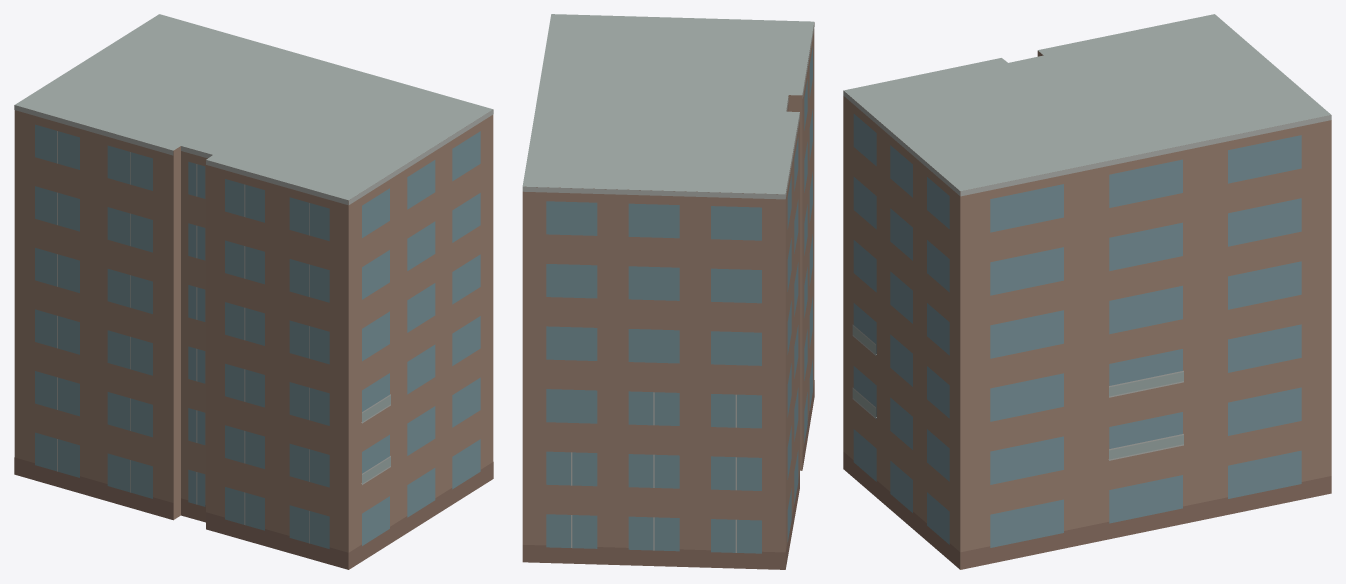
File: survey-upis-32739766.glb
3 views of the same model, side by side, from view 1: azimuth 30°, elevation 25°; view 2: azimuth 150°, elevation 25°; view 3: azimuth 270°, elevation 25° (orthographic). The views are drawn at different scales.
Visible parts, largest first — view 1: survey-upis-32739766.tmp; view 2: survey-upis-32739766.tmp; view 3: survey-upis-32739766.tmp.
Part boxes in pixels (x1,y1,x2,y2): survey-upis-32739766.tmp: [14, 14, 493, 569]; survey-upis-32739766.tmp: [522, 14, 814, 569]; survey-upis-32739766.tmp: [843, 14, 1331, 569].
Size of the model in its own units: 18.09 by 18 by 21.05.
